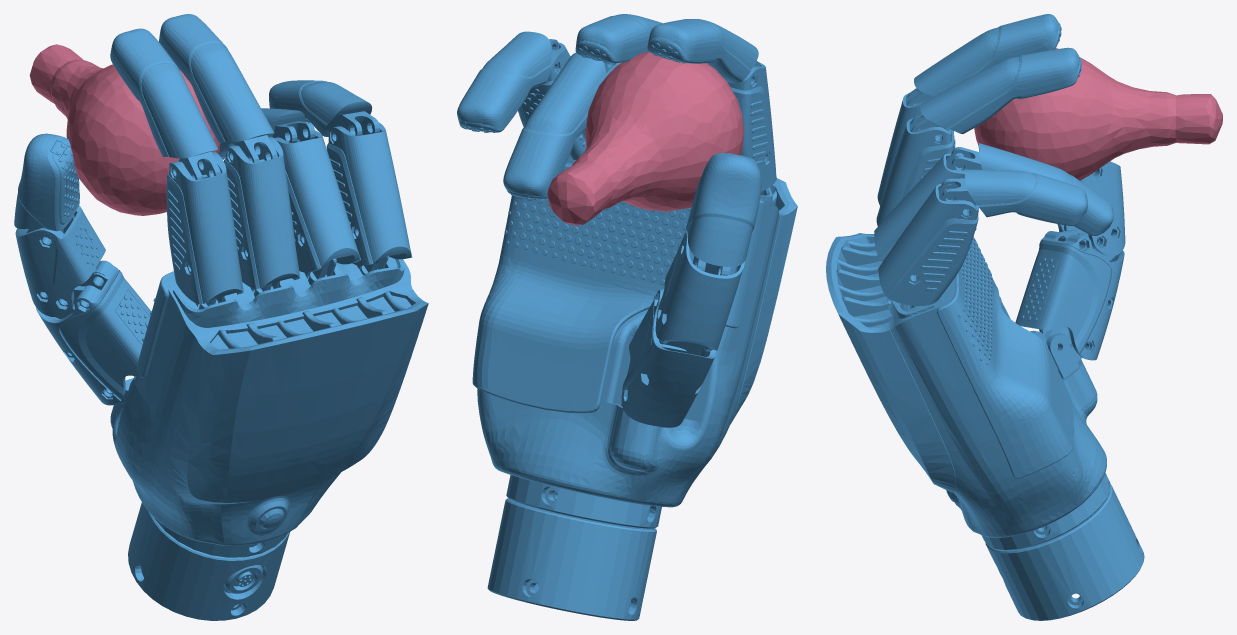
3 views of the same model, side by side, from view 1: azimuth 30°, elevation 25°; view 2: azimuth 150°, elevation 25°; view 3: azimuth 270°, elevation 25° (orthographic). The views are drawn at different scales.
Parts seen in each view (by area): view 1: 0; view 2: 0; view 3: 0.
Part boxes in pixels (x1,y1,x2,y2): 0: (14, 14, 428, 620); 0: (457, 14, 797, 620); 0: (826, 14, 1222, 620).
Size of the model in its own units: 0.115 by 0.2184 by 0.1427.
